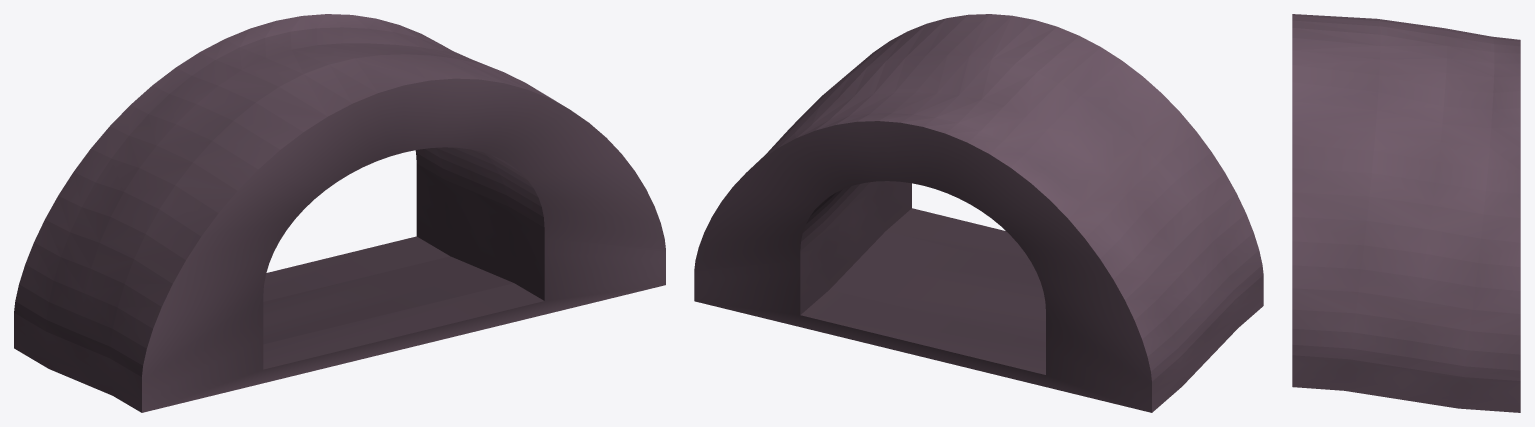
The model's file is grade_down_terrain_lod1.glb.
3 views of the same model, side by side, from view 1: azimuth 30°, elevation 25°; view 2: azimuth 150°, elevation 25°; view 3: azimuth 270°, elevation 25° (orthographic). The views are drawn at different scales.
Parts seen in each view (by area): view 1: TerrainRoof.011; view 2: TerrainRoof.011; view 3: TerrainRoof.011.
Part boxes in pixels (<box>): TerrainRoof.011: <box>14,14,665,412</box>; TerrainRoof.011: <box>694,14,1263,412</box>; TerrainRoof.011: <box>1292,14,1520,412</box>.
Size of the model in its own units: 28.4 by 15.15 by 12.
